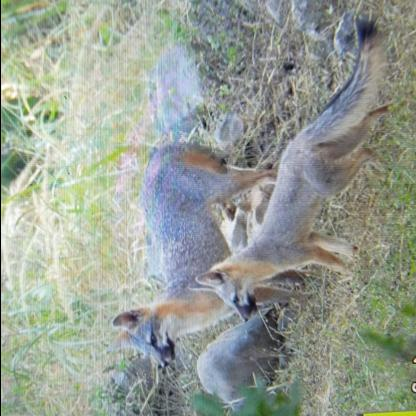zorro: (190, 17, 404, 329), (107, 137, 309, 368)
